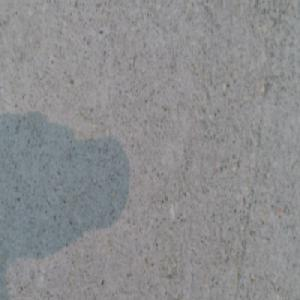Washer: (168, 286, 193, 300)
